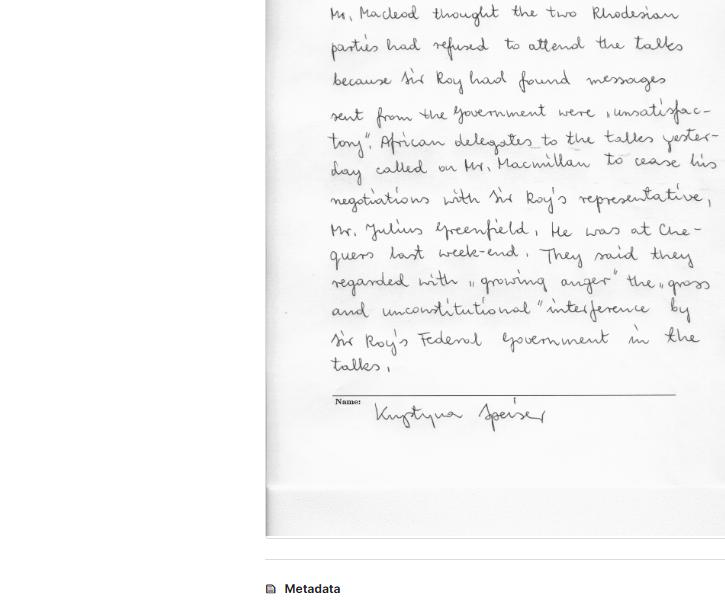text: (328, 150, 717, 188), (328, 95, 715, 132), (326, 126, 720, 161), (328, 322, 703, 357), (326, 182, 714, 215), (329, 268, 714, 299), (326, 295, 695, 327), (327, 33, 685, 65), (327, 244, 698, 274), (331, 65, 668, 98), (325, 216, 705, 243), (325, 2, 681, 30), (370, 395, 550, 434), (329, 355, 393, 376), (263, 582, 342, 597), (333, 395, 364, 407)
